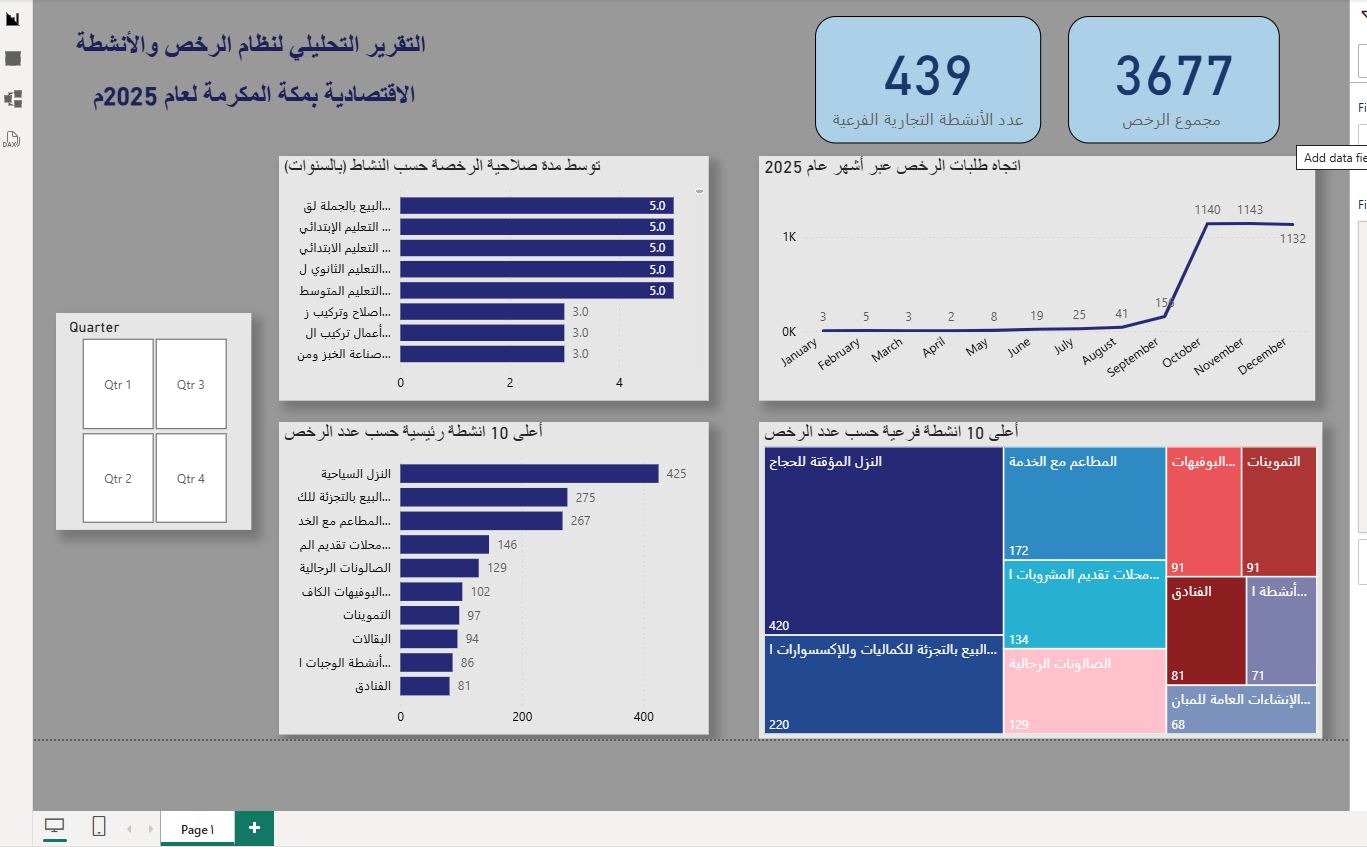

The dashboard page shown, as its layout file describes it:
{"tool":"powerbi","page":{"name":"Page ١","canvas":[1280,720],"ordinal":0},"visuals":[{"type":"card","fields":{"Values":["AllMeasures.Total Licenses"]},"box":[1006.7,16.5,206.2,123.5],"z":0},{"type":"card","fields":{"Values":["Count(1_البيانات الاساسية للرخص التجا. النشاط التفصيلي)"]},"box":[760.6,16.5,219.8,123.5],"z":1},{"type":"barChart","title":"أعلى 10 انشطة رئيسية حسب عدد الرخص","fields":{"Category":["1_البيانات الاساسية للرخص التجا.نشاط الايزك"],"Y":["AllMeasures.Total Licenses"]},"box":[239.3,411.4,418.2,304.4],"z":2},{"type":"treemap","title":"أعلى 10 انشطة فرعية حسب عدد الرخص","fields":{"Group":["1_البيانات الاساسية للرخص التجا. النشاط التفصيلي"],"Values":["AllMeasures.Total Licenses"]},"box":[706.1,411.4,547.6,308.3],"z":3},{"type":"lineChart","title":"اتجاه طلبات الرخص عبر أشهر عام 2025","fields":{"Category":["1_البيانات الاساسية للرخص التجا.MonthName"],"Y":["AllMeasures.Total Licenses"],"Series":["1_البيانات الاساسية للرخص التجا.year"]},"box":[706.1,152.7,540.8,238.3],"z":4},{"type":"barChart","title":"توسط مدة صلاحية الرخصة حسب النشاط (بالسنوات)","fields":{"Category":["1_البيانات الاساسية للرخص التجا.نشاط الايزك"],"Y":["AllMeasures.Average License Duration"]},"box":[239.3,152.7,418.2,238.3],"z":7},{"type":"slicer","fields":{"Values":["1_البيانات الاساسية للرخص التجا.Quarter"]},"box":[22.4,305.4,189.7,211.1],"z":8},{"type":"textbox","box":[30.2,8.8,363.8,107],"z":9}]}

Visuals, with their boxes in screenshot pixels (x1, y1, x2, y2):
card - AllMeasures.Total Licenses: select_region(1062, 20, 1271, 146)
card - Count(1_البيانات الاساسية للرخص التجا. النشاط التفصيلي): select_region(812, 20, 1035, 146)
"أعلى 10 انشطة رئيسية حسب عدد الرخص" barChart: select_region(282, 421, 707, 731)
"أعلى 10 انشطة فرعية حسب عدد الرخص" treemap: select_region(756, 421, 1313, 735)
"اتجاه طلبات الرخص عبر أشهر عام 2025" lineChart: select_region(756, 159, 1306, 401)
"توسط مدة صلاحية الرخصة حسب النشاط (بالسنوات)" barChart: select_region(282, 159, 707, 401)
slicer - 1_البيانات الاساسية للرخص التجا.Quarter: select_region(62, 314, 255, 528)
textbox: select_region(70, 12, 439, 121)
